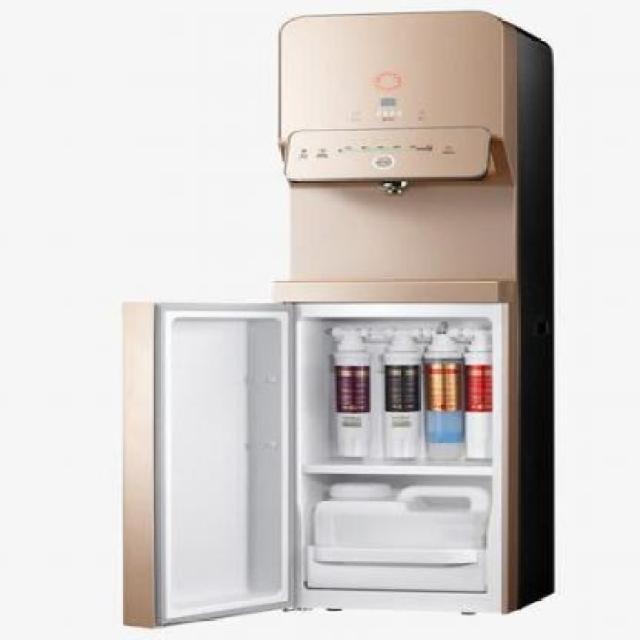cooler: (274, 8, 561, 618)
